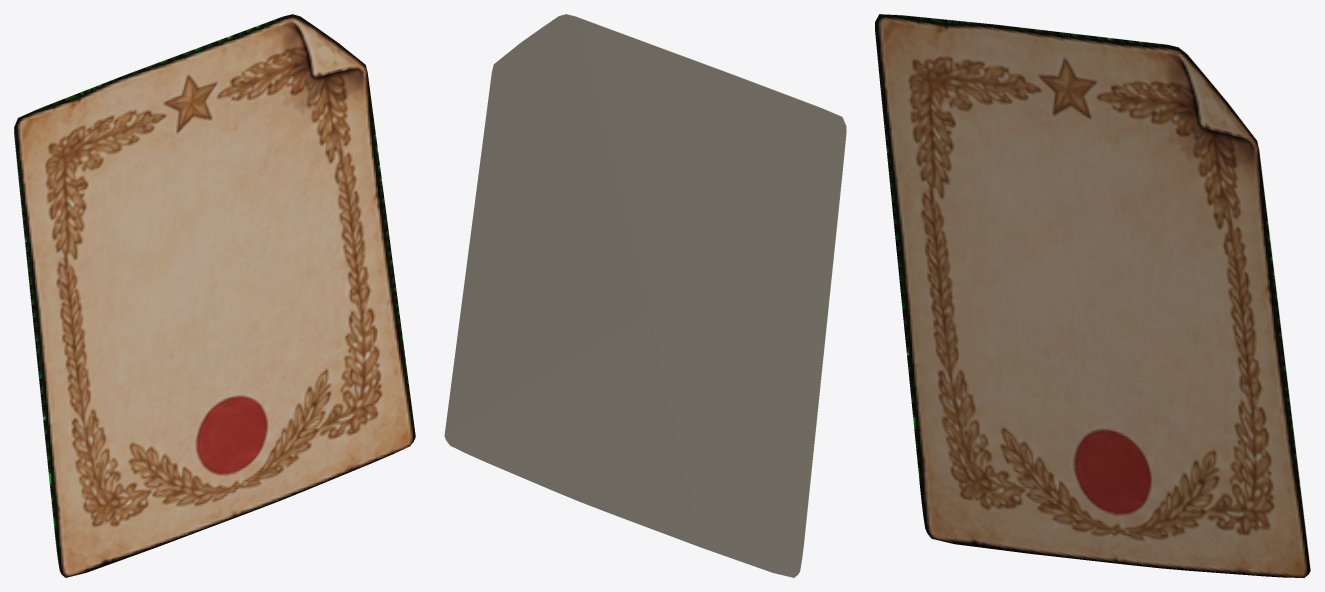
File: fake_diploma-legacy.glb
3 views of the same model, side by side, from view 1: azimuth 30°, elevation 25°; view 2: azimuth 150°, elevation 25°; view 3: azimuth 330°, elevation 25° (orthographic). The views are drawn at different scales.
Parts seen in each view (by area): view 1: fake_diploma-legacy_printed_sheet, fake_diploma-legacy_real_cut_edge; view 2: fake_diploma-legacy_paper_reverse, fake_diploma-legacy_real_cut_edge; view 3: fake_diploma-legacy_printed_sheet, fake_diploma-legacy_real_cut_edge.
Part boxes in pixels (x1,y1,x2,y2): fake_diploma-legacy_printed_sheet: [14, 14, 415, 577]; fake_diploma-legacy_real_cut_edge: [14, 14, 299, 574]; fake_diploma-legacy_paper_reverse: [444, 14, 845, 577]; fake_diploma-legacy_real_cut_edge: [560, 14, 846, 572]; fake_diploma-legacy_printed_sheet: [875, 14, 1310, 577]; fake_diploma-legacy_real_cut_edge: [879, 14, 1310, 573].
Size of the model in its own units: 0.1805 by 0.2183 by 0.000999.
Materials: 2 (1 with a texture image).
